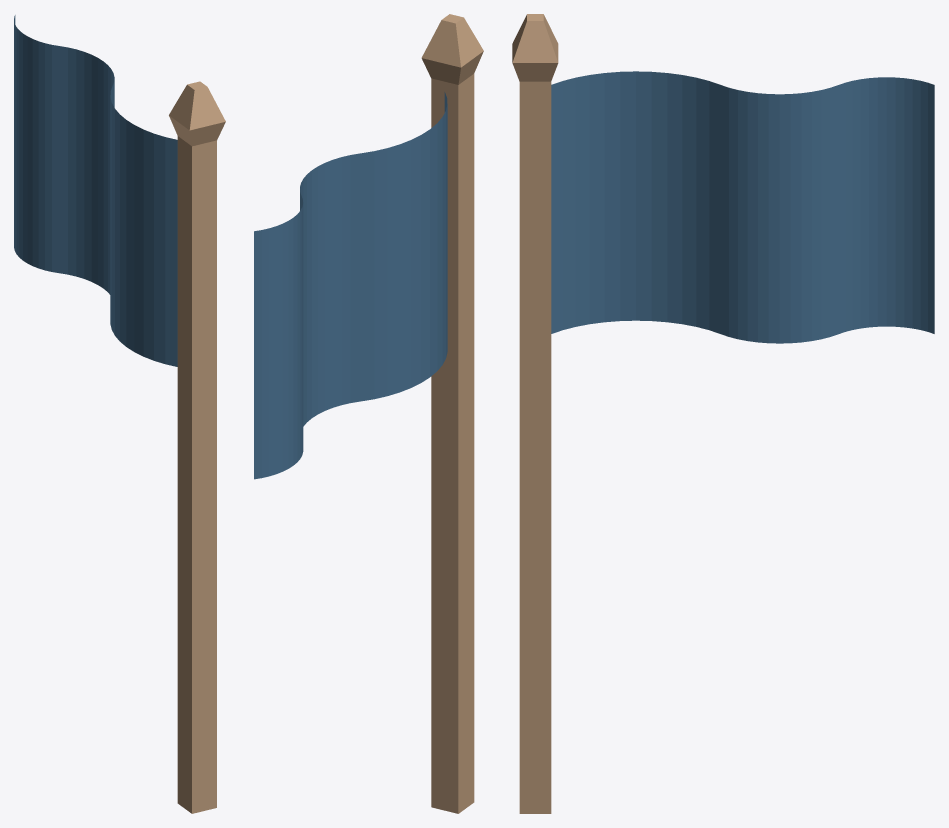
Rendered from flagbluewide.glb.
3 views of the same model, side by side, from view 1: azimuth 30°, elevation 25°; view 2: azimuth 150°, elevation 25°; view 3: azimuth 270°, elevation 25° (orthographic). The views are drawn at different scales.
Visible parts, largest first — view 1: Group 284, flagBlueWide; view 2: Group 284, flagBlueWide; view 3: Group 284, flagBlueWide.
Boxes of the visible parts, bbox=[...] form: Group 284: bbox=[14, 15, 177, 366]; flagBlueWide: bbox=[169, 81, 225, 813]; Group 284: bbox=[254, 92, 447, 479]; flagBlueWide: bbox=[421, 14, 483, 813]; Group 284: bbox=[551, 71, 934, 343]; flagBlueWide: bbox=[512, 14, 558, 813].
Size of the model in its own units: 0.4988 by 7.92 by 3.84.
